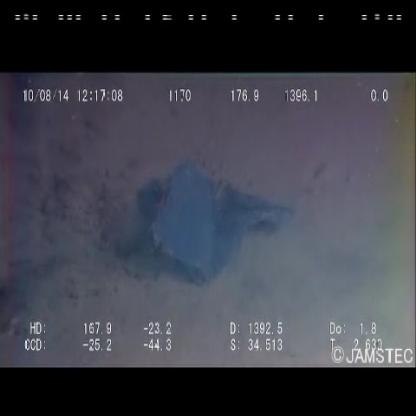Rác: (136, 158, 297, 291)
